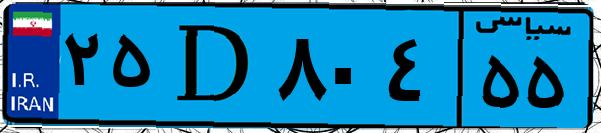0: (330, 28, 385, 110)
2: (57, 26, 110, 100)
4: (385, 28, 445, 110)
5: (475, 38, 525, 113), (525, 38, 570, 115), (110, 28, 158, 98)
8: (270, 28, 330, 110)
D: (158, 12, 270, 120)
